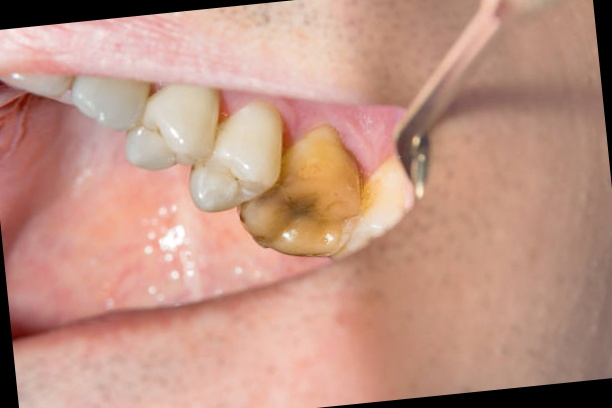Tooth Discoloration: (224, 119, 381, 273)
